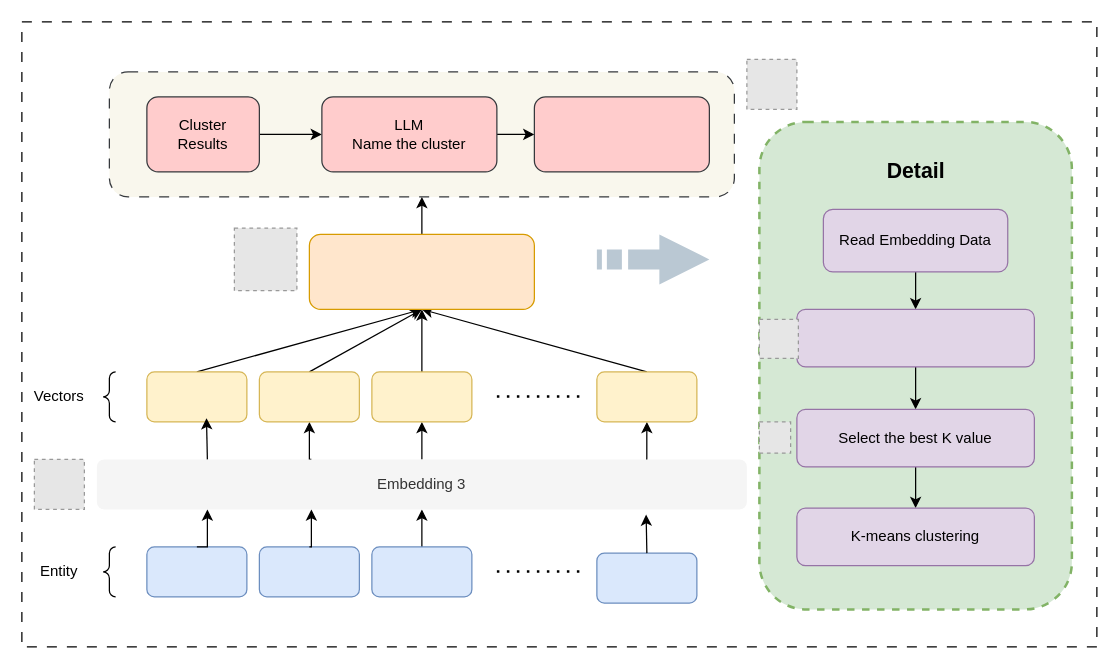
Some shapes in this 1119 by 669 pixel diagram are drawn without their labels. Grey dashed boxes stand in for pictures. Here are the shapes that lost their labels. From the top down, the centre of each, then its label:
At [621,134]: "Save to JSON".
At [421,271]: "K-means Caculator".
At [915,337]: "Elbow Method & Silhouette Score".
